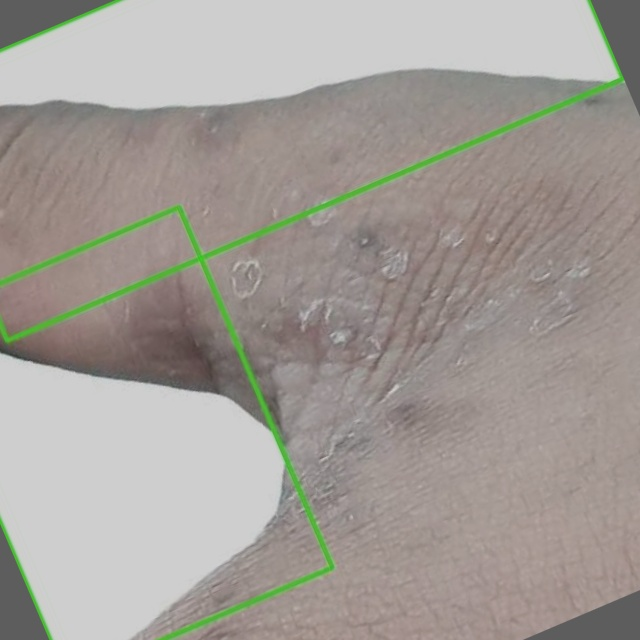Scabies: (0, 0, 623, 340), (0, 207, 332, 639)
